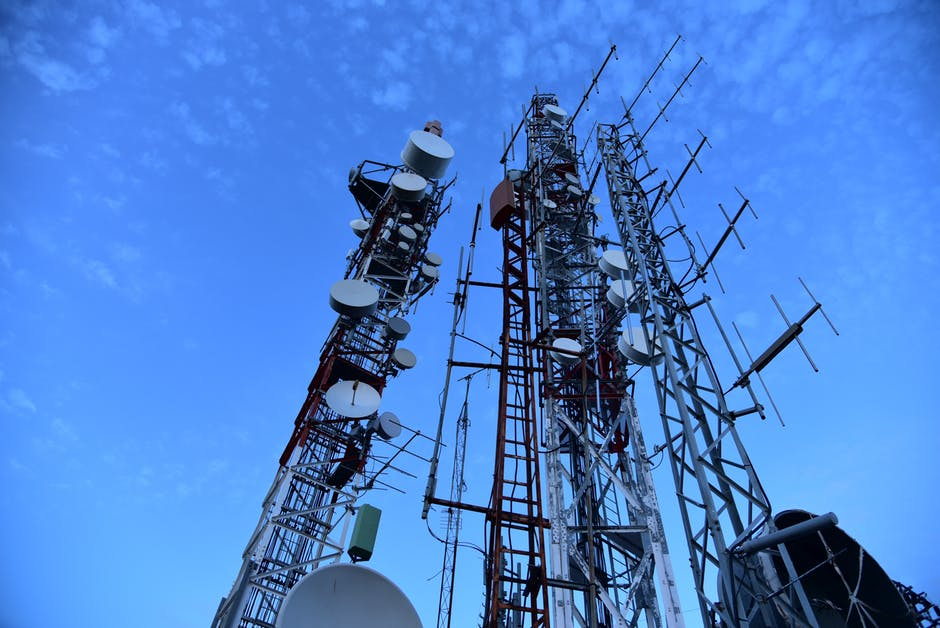ba: (602, 298, 672, 381), (321, 261, 386, 320), (322, 361, 385, 418), (397, 130, 457, 178), (385, 160, 432, 215), (369, 392, 408, 451), (549, 320, 585, 378), (594, 239, 640, 284), (382, 339, 426, 380), (603, 271, 645, 312), (415, 241, 438, 291)
